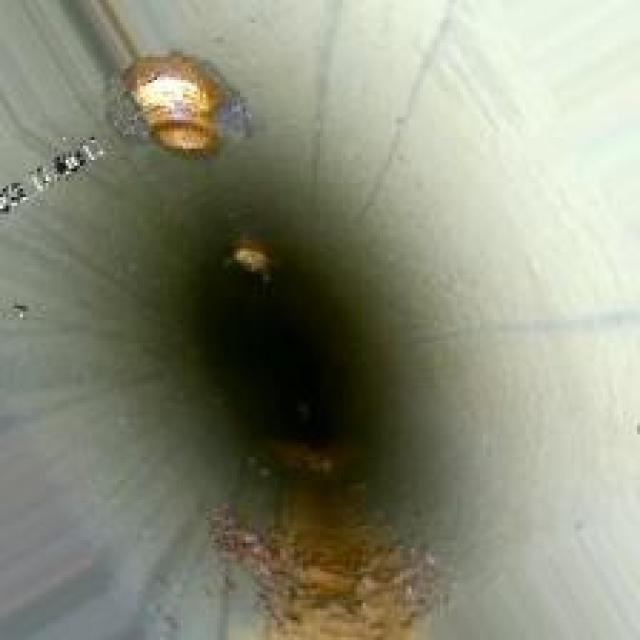ferrule: (117, 48, 243, 163), (226, 234, 274, 277)
